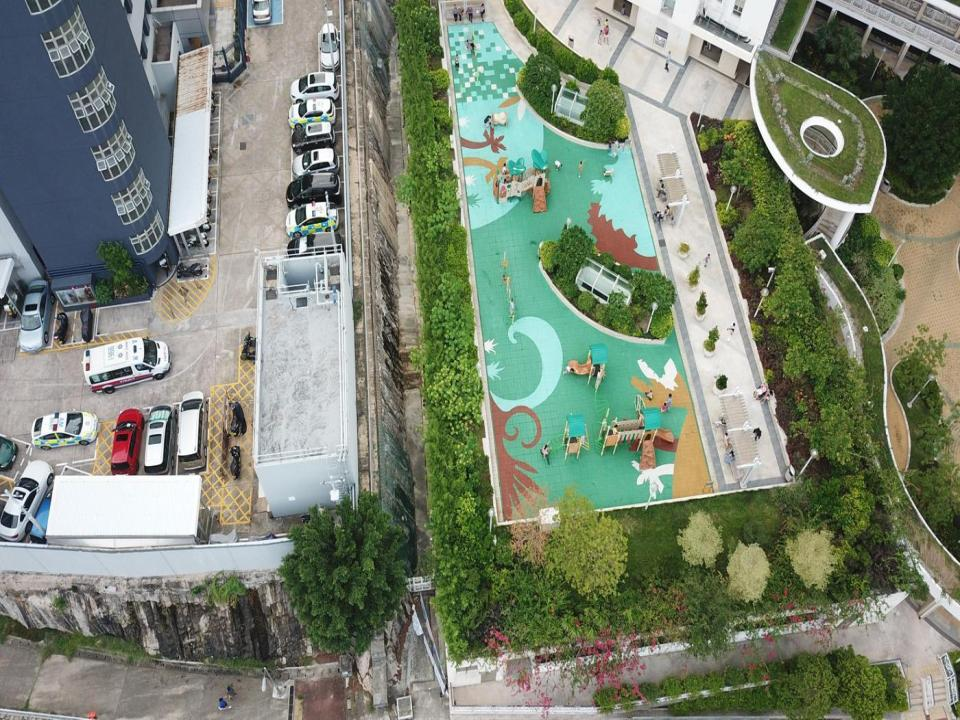car: (0, 460, 53, 540), (28, 476, 70, 546), (31, 408, 99, 450), (19, 279, 54, 351), (110, 408, 145, 477), (284, 200, 338, 238), (288, 72, 338, 105), (288, 97, 336, 131), (292, 148, 339, 181), (251, 0, 272, 25)
van: (83, 336, 171, 394), (177, 390, 208, 469), (144, 405, 178, 477), (287, 232, 344, 269), (286, 173, 341, 209), (319, 22, 340, 70)
